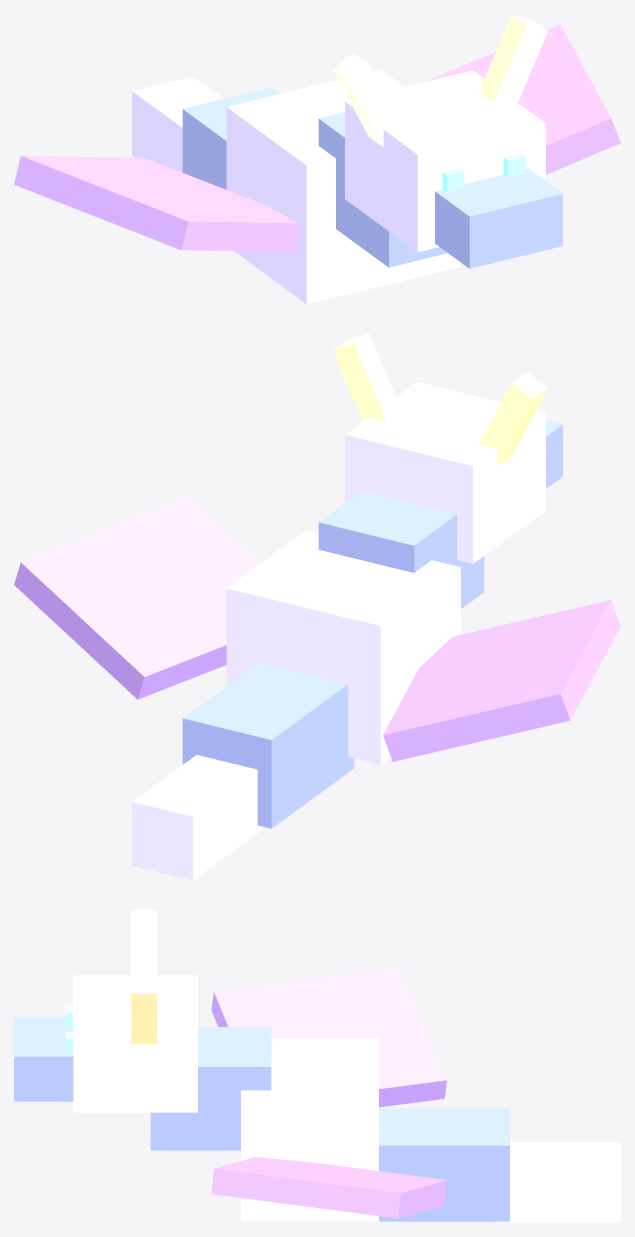
Rendered from career-fog-dragon.glb.
The picture shows the model from 3 angles, top to bottom: view 1: azimuth 30°, elevation 25°; view 2: azimuth 150°, elevation 25°; view 3: azimuth 270°, elevation 25°; orthographic projection. The views are drawn at different scales.
Visible parts, largest first — view 1: Core, Head, LeftWing, Snout, RightWing, TailTwo, Neck, TailOne, RightHorn, LeftHorn, LeftEye, RightEye; view 2: Core, RightWing, LeftWing, Head, TailOne, TailTwo, Neck, RightHorn, LeftHorn, Snout; view 3: Core, LeftWing, Head, TailOne, RightWing, Neck, TailTwo, Snout, RightHorn, LeftHorn.
Part boxes in pixels (x1,y1,x2,y2): Core: (226,69,460,304); Head: (345,70,545,252); LeftWing: (14,156,298,252); Snout: (435,168,562,268); RightWing: (426,24,620,174); TailTwo: (132,76,223,172); Neck: (318,112,447,267); TailOne: (182,87,280,189); RightHorn: (479,14,547,102); LeftHorn: (332,53,401,147); LeftEye: (442,168,464,192); RightEye: (503,153,525,177); Core: (226,530,460,764); RightWing: (14,497,260,699); LeftWing: (383,600,620,761); Head: (345,381,545,563); TailOne: (182,662,354,828); TailTwo: (132,755,264,880); Neck: (318,491,484,608); RightHorn: (332,333,401,421); LeftHorn: (479,372,547,466); Snout: (546,420,562,488); Core: (241,1038,378,1221); LeftWing: (211,967,447,1107); Head: (73,975,197,1112); TailOne: (379,1108,509,1221); RightWing: (211,1157,447,1218); Neck: (150,1027,271,1150); TailTwo: (494,1142,620,1222); Snout: (14,1017,73,1101); RightHorn: (131,975,156,1044); LeftHorn: (131,909,156,975).
Bounding box in the file's own units: 5.12 × 2.74 × 5.64.
